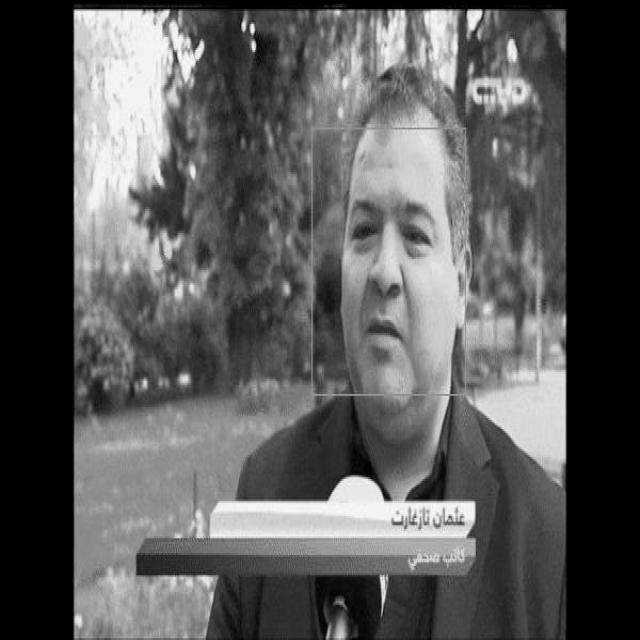fake: (315, 131, 465, 395)
